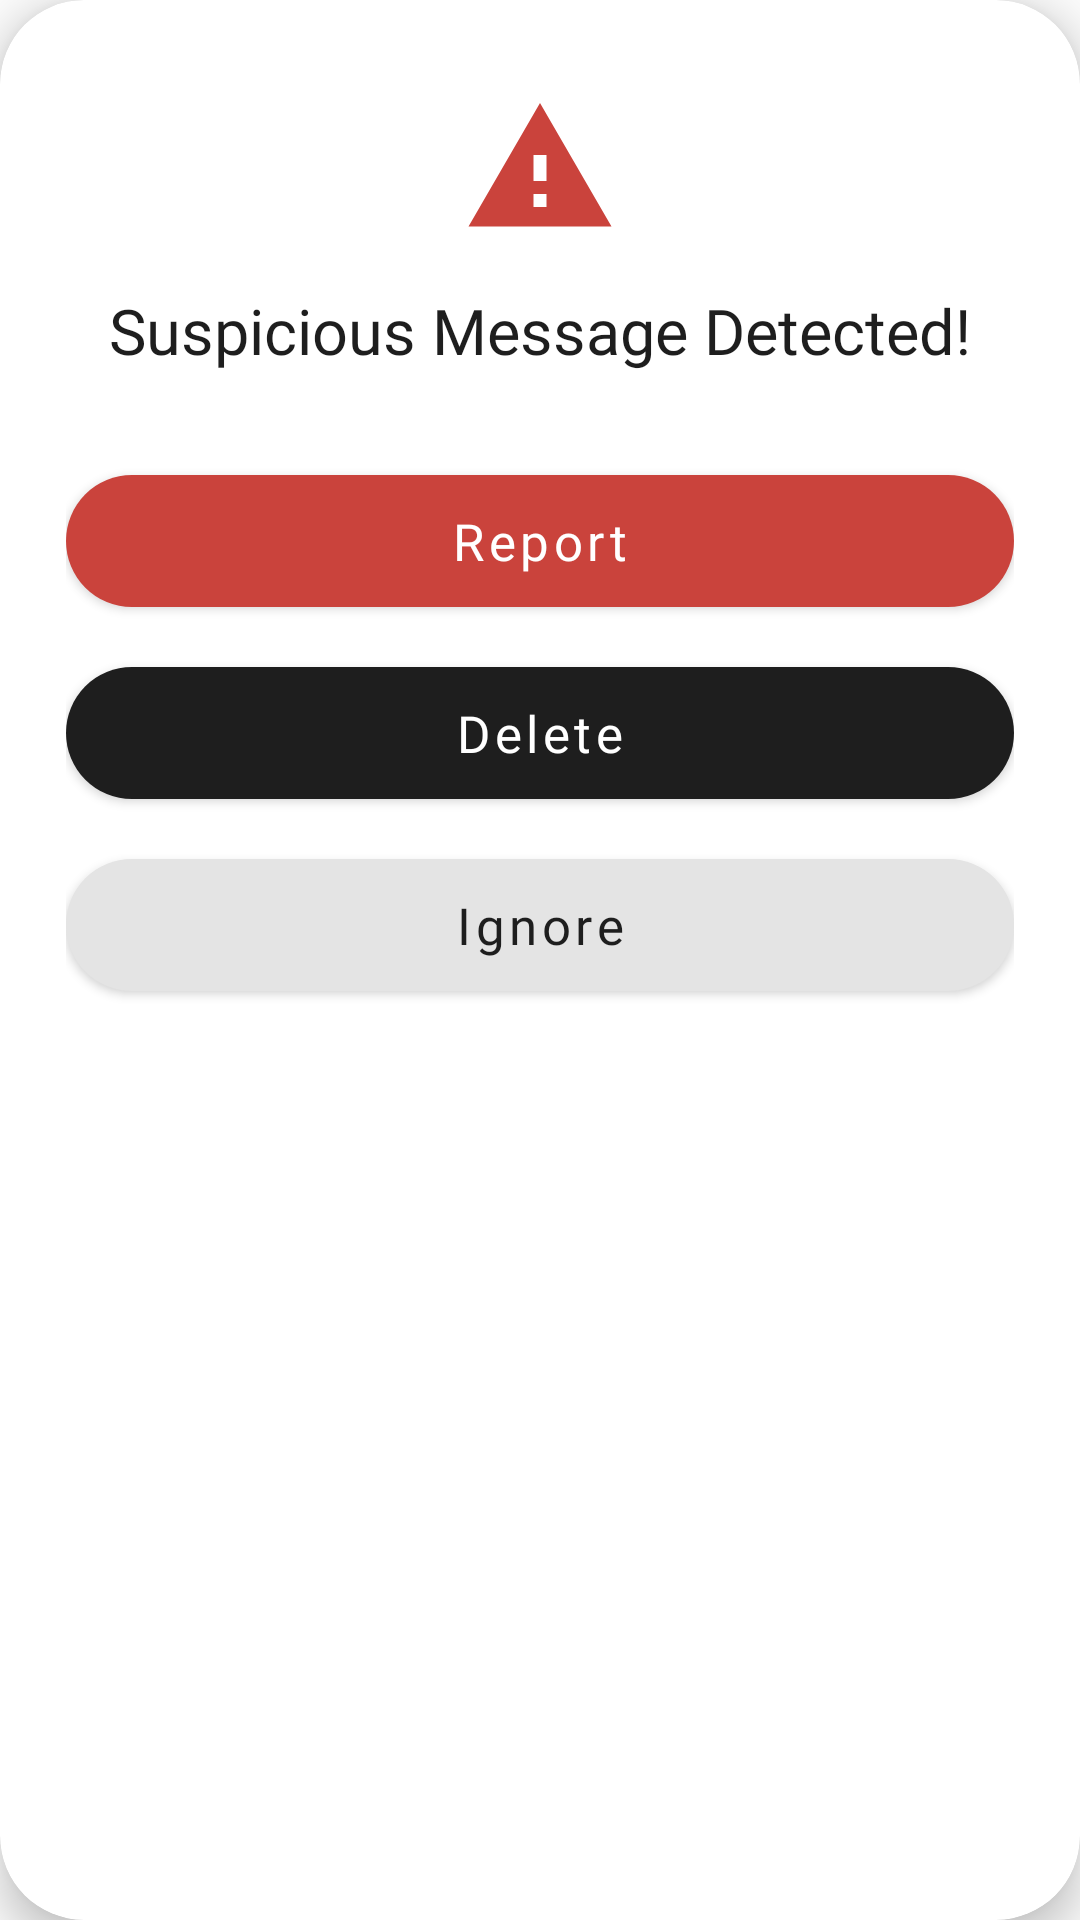

Icon bounding boxes for this 1080x1920 phone screenshot, format (x1, y1, x2, y2):
warning: (468, 103, 612, 227)
